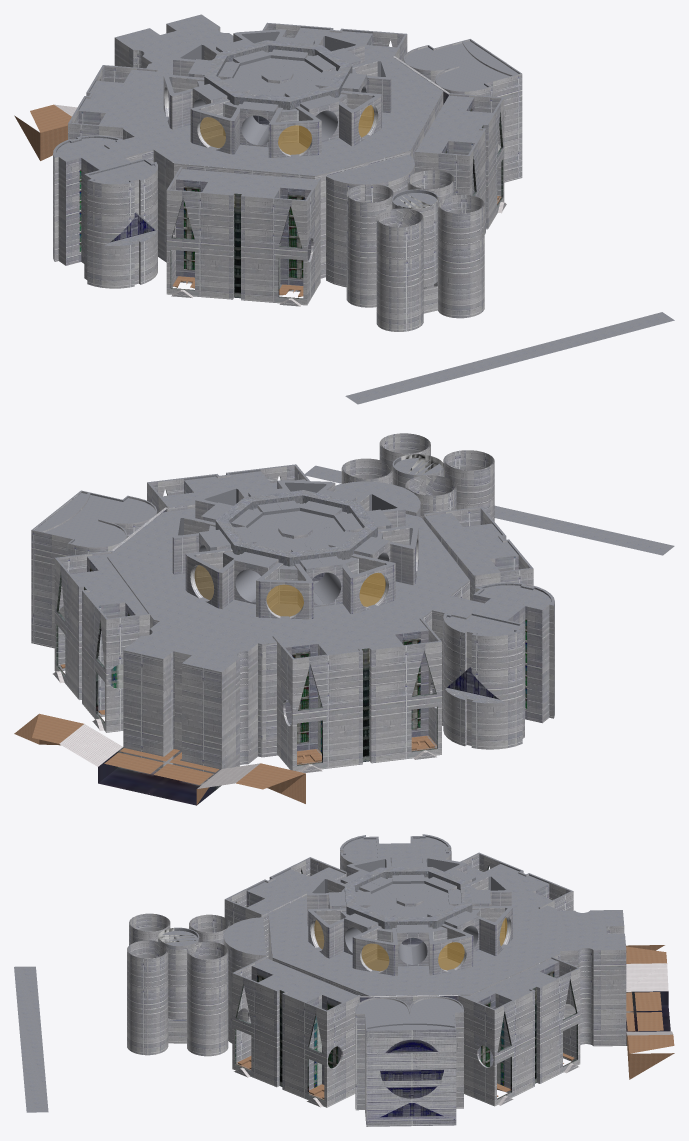
The model's file is parliament.glb.
3 renders of one model, top to bottom at view 1: azimuth 30°, elevation 25°; view 2: azimuth 150°, elevation 25°; view 3: azimuth 270°, elevation 25°, orthographic. The views are drawn at different scales.
Parts seen in each view (by area): view 1: empty_429, empty_41, empty_57, empty_170, empty_235, empty_230, empty_2, empty_427, empty_243, empty_240, empty_220, empty_73 (+55 smaller); view 2: empty_429, empty_139, empty_105, empty_121, empty_135, empty_152, empty_25, empty_243, empty_9, empty_242, empty_427, empty_2 (+60 smaller); view 3: empty_429, empty_245, empty_73, empty_9, empty_135, empty_89, empty_25, empty_225, empty_235, empty_2, empty_243, empty_240 (+56 smaller).
Boxes of the visible parts, x1,y1,x2,y2 form: empty_429: [105, 42, 443, 175]; empty_41: [241, 179, 320, 305]; empty_57: [166, 168, 233, 299]; empty_170: [87, 180, 135, 288]; empty_235: [427, 205, 484, 318]; empty_230: [376, 219, 427, 331]; empty_2: [345, 312, 674, 404]; empty_427: [104, 92, 443, 278]; empty_243: [404, 39, 521, 91]; empty_240: [403, 39, 522, 182]; empty_220: [348, 195, 393, 307]; empty_73: [449, 94, 504, 229]; empty_429: [107, 508, 483, 644]; empty_139: [182, 644, 257, 781]; empty_105: [272, 636, 362, 771]; empty_121: [369, 618, 441, 763]; empty_135: [123, 629, 182, 770]; empty_152: [470, 630, 522, 749]; empty_25: [82, 591, 149, 732]; empty_243: [32, 490, 156, 547]; empty_9: [54, 552, 112, 699]; empty_242: [31, 507, 167, 648]; empty_427: [107, 557, 471, 757]; empty_2: [304, 465, 674, 555]; empty_429: [268, 857, 560, 995]; empty_245: [366, 1029, 456, 1126]; empty_73: [282, 993, 360, 1107]; empty_9: [458, 990, 534, 1106]; empty_135: [560, 948, 626, 1046]; empty_89: [232, 957, 279, 1087]; empty_25: [536, 957, 580, 1083]; empty_225: [178, 953, 226, 1056]; empty_235: [127, 951, 177, 1055]; empty_2: [14, 966, 48, 1112]; empty_243: [355, 996, 463, 1030]; empty_240: [355, 996, 463, 1124].
Bounding box in the file's own units: 171 × 53.88 × 243.
28 materials, 27 textured.
